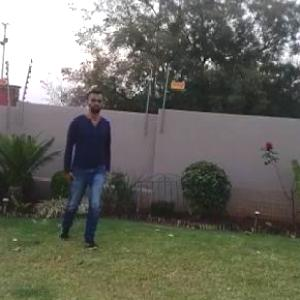follow: (65, 92, 113, 235)
